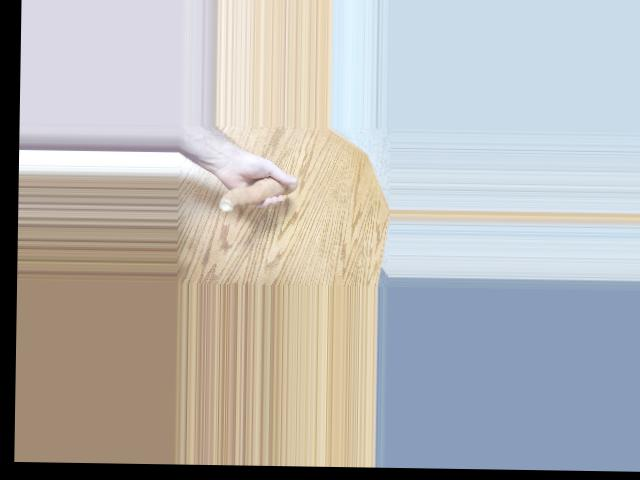sweet_potato: (214, 176, 301, 211)
